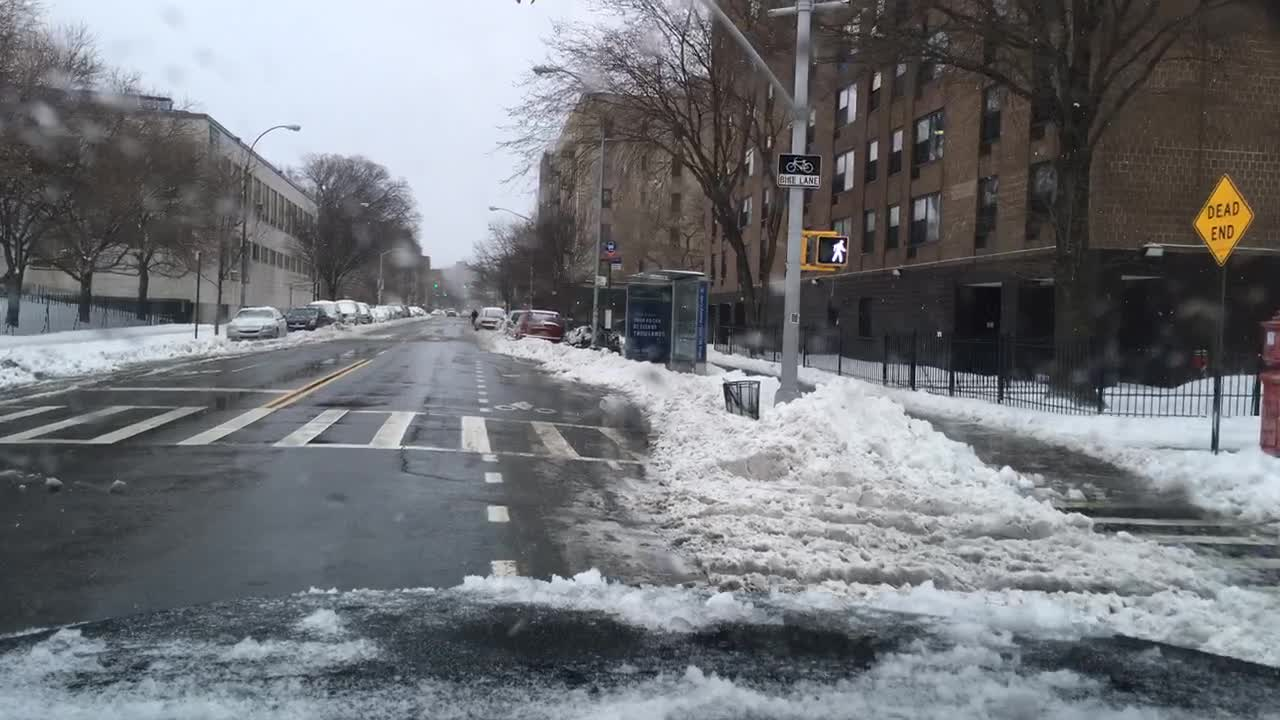bike: (464, 315, 478, 327)
car: (223, 306, 287, 341), (516, 308, 565, 345), (284, 308, 328, 334), (303, 299, 343, 326), (336, 301, 361, 327), (478, 305, 504, 329), (504, 308, 522, 327), (357, 301, 373, 320), (378, 306, 390, 322), (413, 306, 427, 319), (390, 303, 401, 319), (429, 304, 441, 318), (401, 305, 415, 315), (441, 308, 455, 318)
rider: (467, 304, 476, 324)
traffic light: (820, 235, 850, 268)
traffic sign: (1191, 172, 1254, 264), (773, 152, 817, 187), (597, 236, 619, 259)
